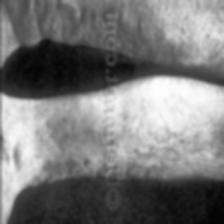Unclassified: (120, 96, 224, 176), (125, 0, 224, 66), (0, 108, 100, 170), (0, 0, 96, 38)
